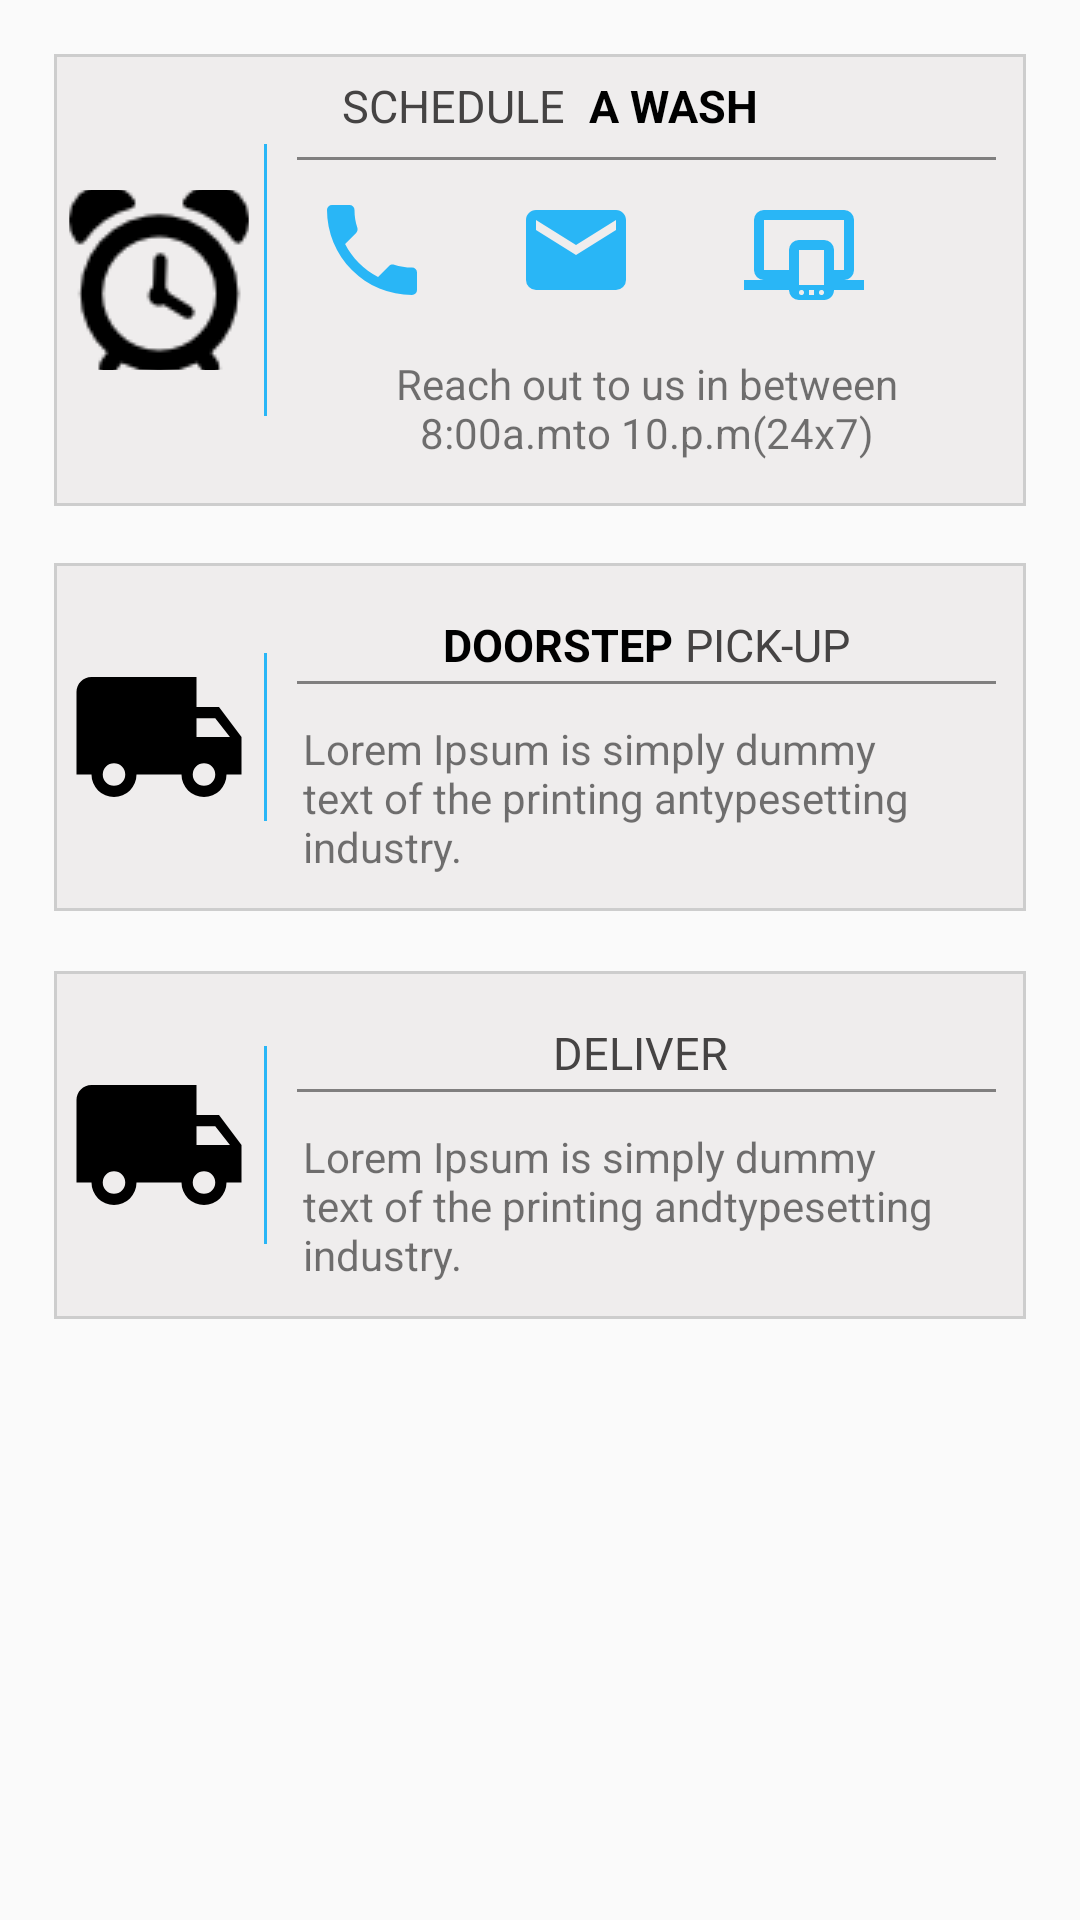

Icons on this 1080px x 1920px Android screen, each with the point to tap as point (x, y):
clock: point (159, 280)
email: point (576, 250)
monitor: point (804, 255)
phone: point (372, 250)
truck: point (159, 737), point (159, 1145)
